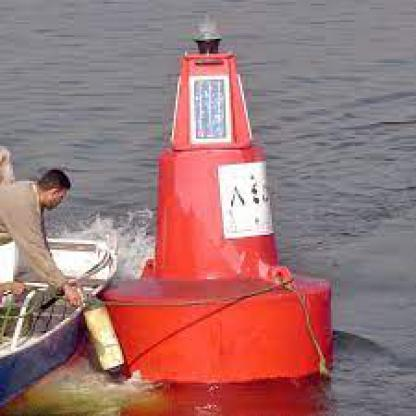buoy: (89, 9, 338, 385)
